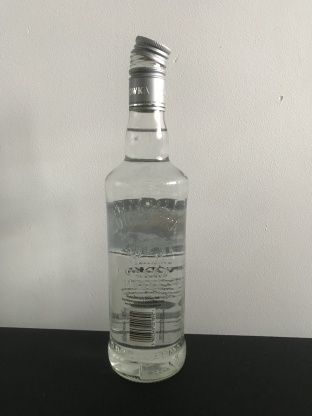nakretka: (126, 32, 171, 112)
